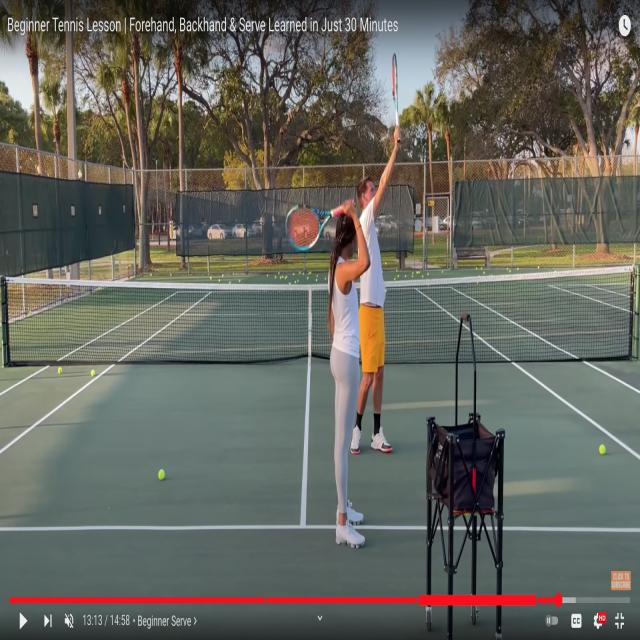ball: (599, 444, 606, 456), (158, 469, 165, 481), (58, 367, 62, 374), (91, 370, 95, 377), (228, 280, 232, 286), (508, 269, 512, 274), (516, 267, 520, 271), (404, 274, 407, 279), (238, 279, 241, 284), (421, 274, 424, 279), (475, 266, 478, 271), (506, 267, 509, 272), (537, 265, 540, 270), (397, 274, 400, 278), (218, 279, 221, 283), (315, 279, 318, 283), (393, 277, 396, 281), (395, 268, 398, 272), (490, 274, 493, 278), (476, 280, 479, 284), (554, 270, 557, 274), (324, 277, 327, 281), (302, 272, 305, 276), (222, 272, 224, 278), (232, 272, 235, 276), (418, 270, 420, 275), (441, 270, 444, 273), (416, 271, 418, 275), (293, 272, 295, 276), (150, 273, 152, 277), (280, 276, 282, 280), (297, 279, 299, 283), (385, 261, 387, 265), (412, 271, 414, 275), (427, 272, 429, 276), (480, 266, 482, 270), (483, 271, 485, 275), (478, 275, 480, 279), (299, 271, 301, 275), (308, 272, 310, 276), (310, 270, 312, 274), (289, 282, 291, 286), (286, 275, 288, 279), (282, 275, 284, 279), (278, 272, 280, 276), (170, 273, 172, 277), (267, 274, 269, 277), (412, 275, 414, 278), (316, 275, 318, 278), (275, 276, 277, 279), (210, 277, 212, 280), (284, 277, 286, 280), (307, 277, 309, 280)
